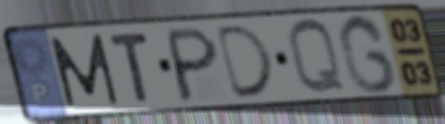D: (214, 21, 278, 101)
G: (335, 11, 400, 96)
M: (46, 32, 123, 111)
P: (165, 24, 220, 105)
Q: (285, 16, 350, 98)
T: (105, 30, 153, 105)
